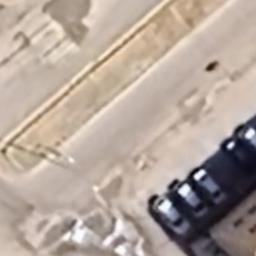SUV: (153, 196, 191, 236)
sedan: (174, 180, 210, 220), (195, 168, 227, 206), (224, 140, 251, 171)
